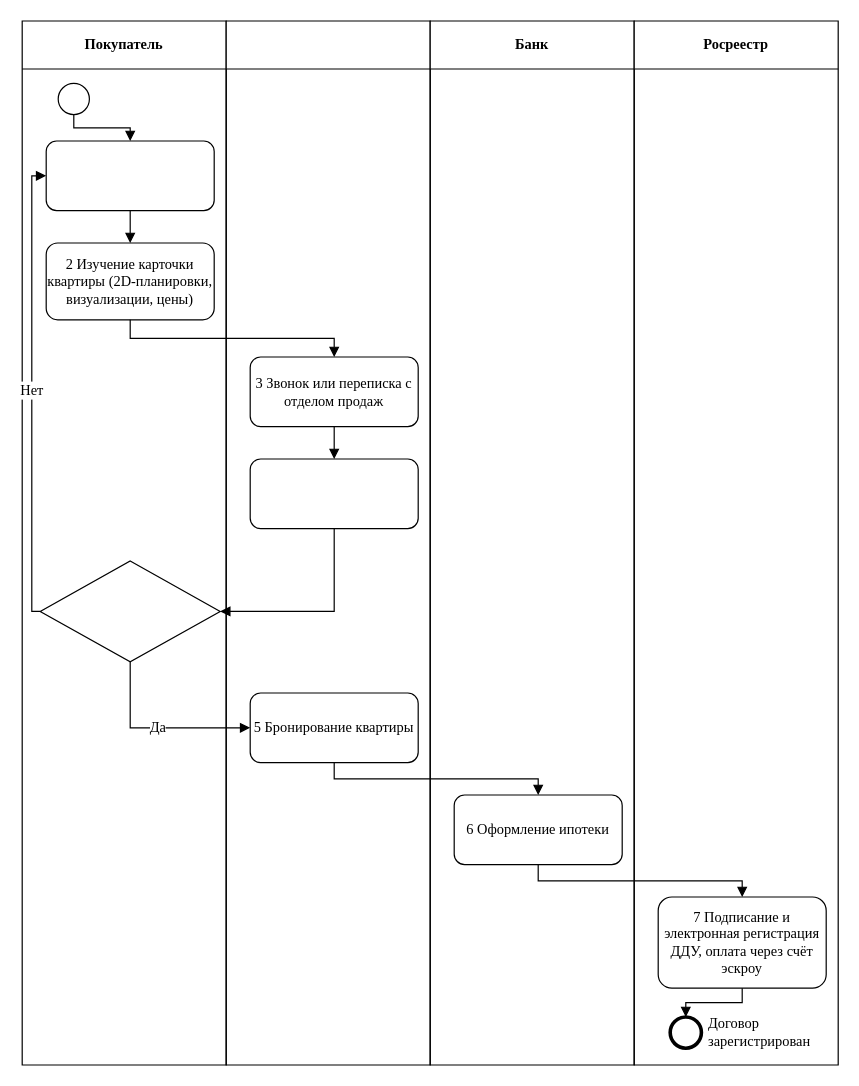
This 859x1086 diagram has some shape labels left out. Each missing label, with the box of its shape:
1 Поиск объекта на площадке или сайте застройщика: (45, 140, 214, 211)
4 Визит в офис продаж или на объект: (249, 458, 418, 529)
Менеджер / застройщик: (225, 20, 430, 1065)
Потребность в жилье: (57, 82, 89, 115)
Решение о бронировании?: (39, 560, 220, 662)
